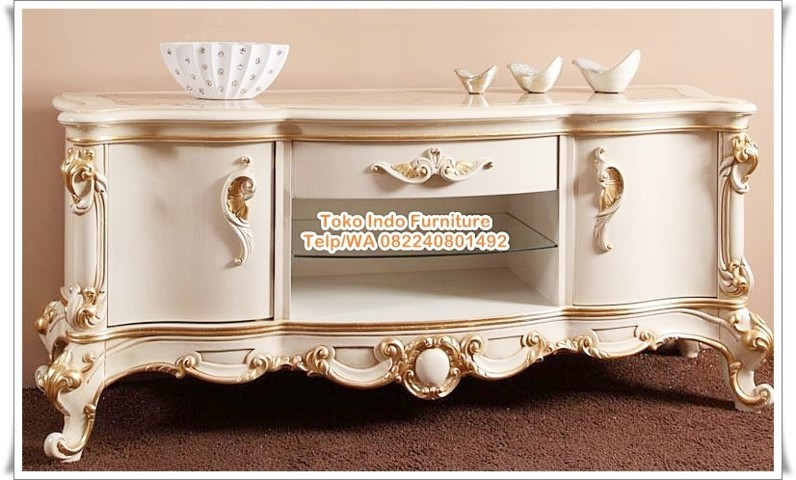Carving Table: (46, 80, 762, 443)
